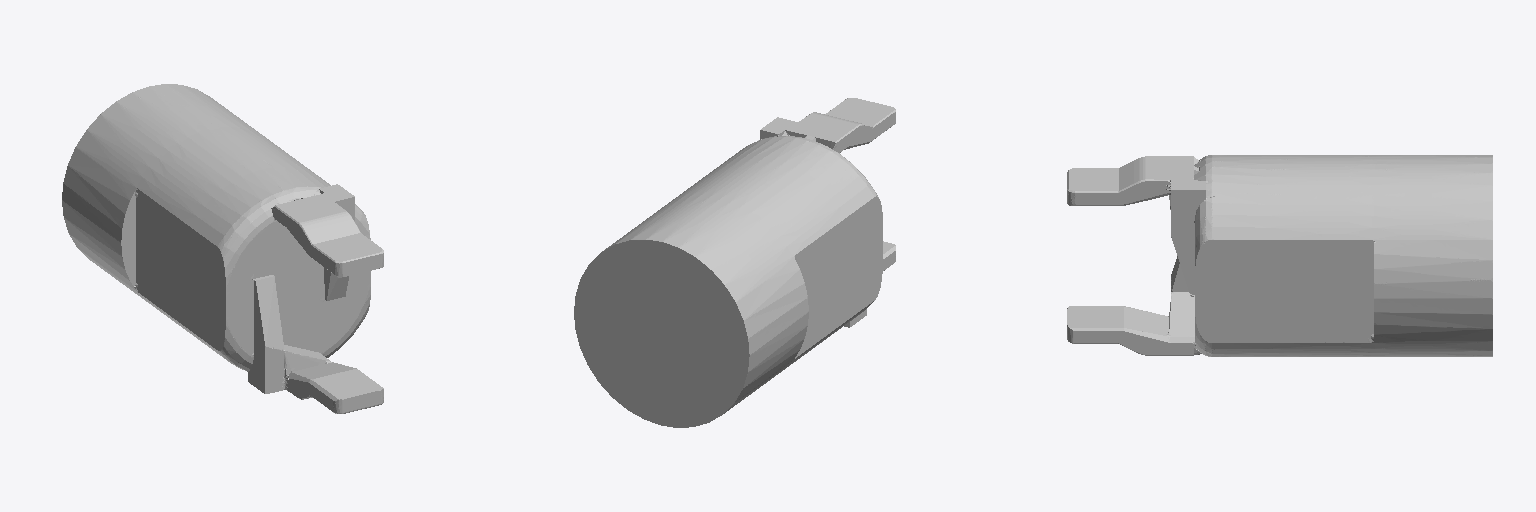
File: gripper_air_tight.obj
3 renders of one model, left to right at view 1: azimuth 30°, elevation 25°; view 2: azimuth 150°, elevation 25°; view 3: azimuth 270°, elevation 25°, orthographic.
Size of the model in its own units: 0.075 by 0.075 by 0.1571.